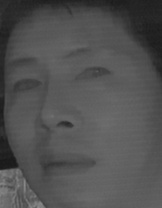eye: (71, 65, 113, 85), (12, 75, 43, 97)
mouth: (37, 143, 96, 179)
